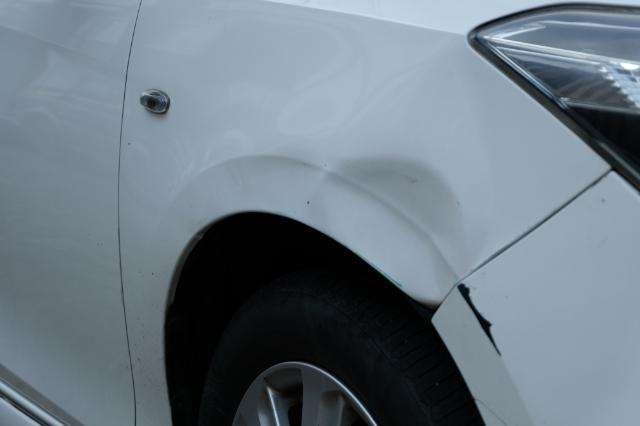dent: (248, 153, 472, 300)
scratch: (454, 282, 504, 359)
